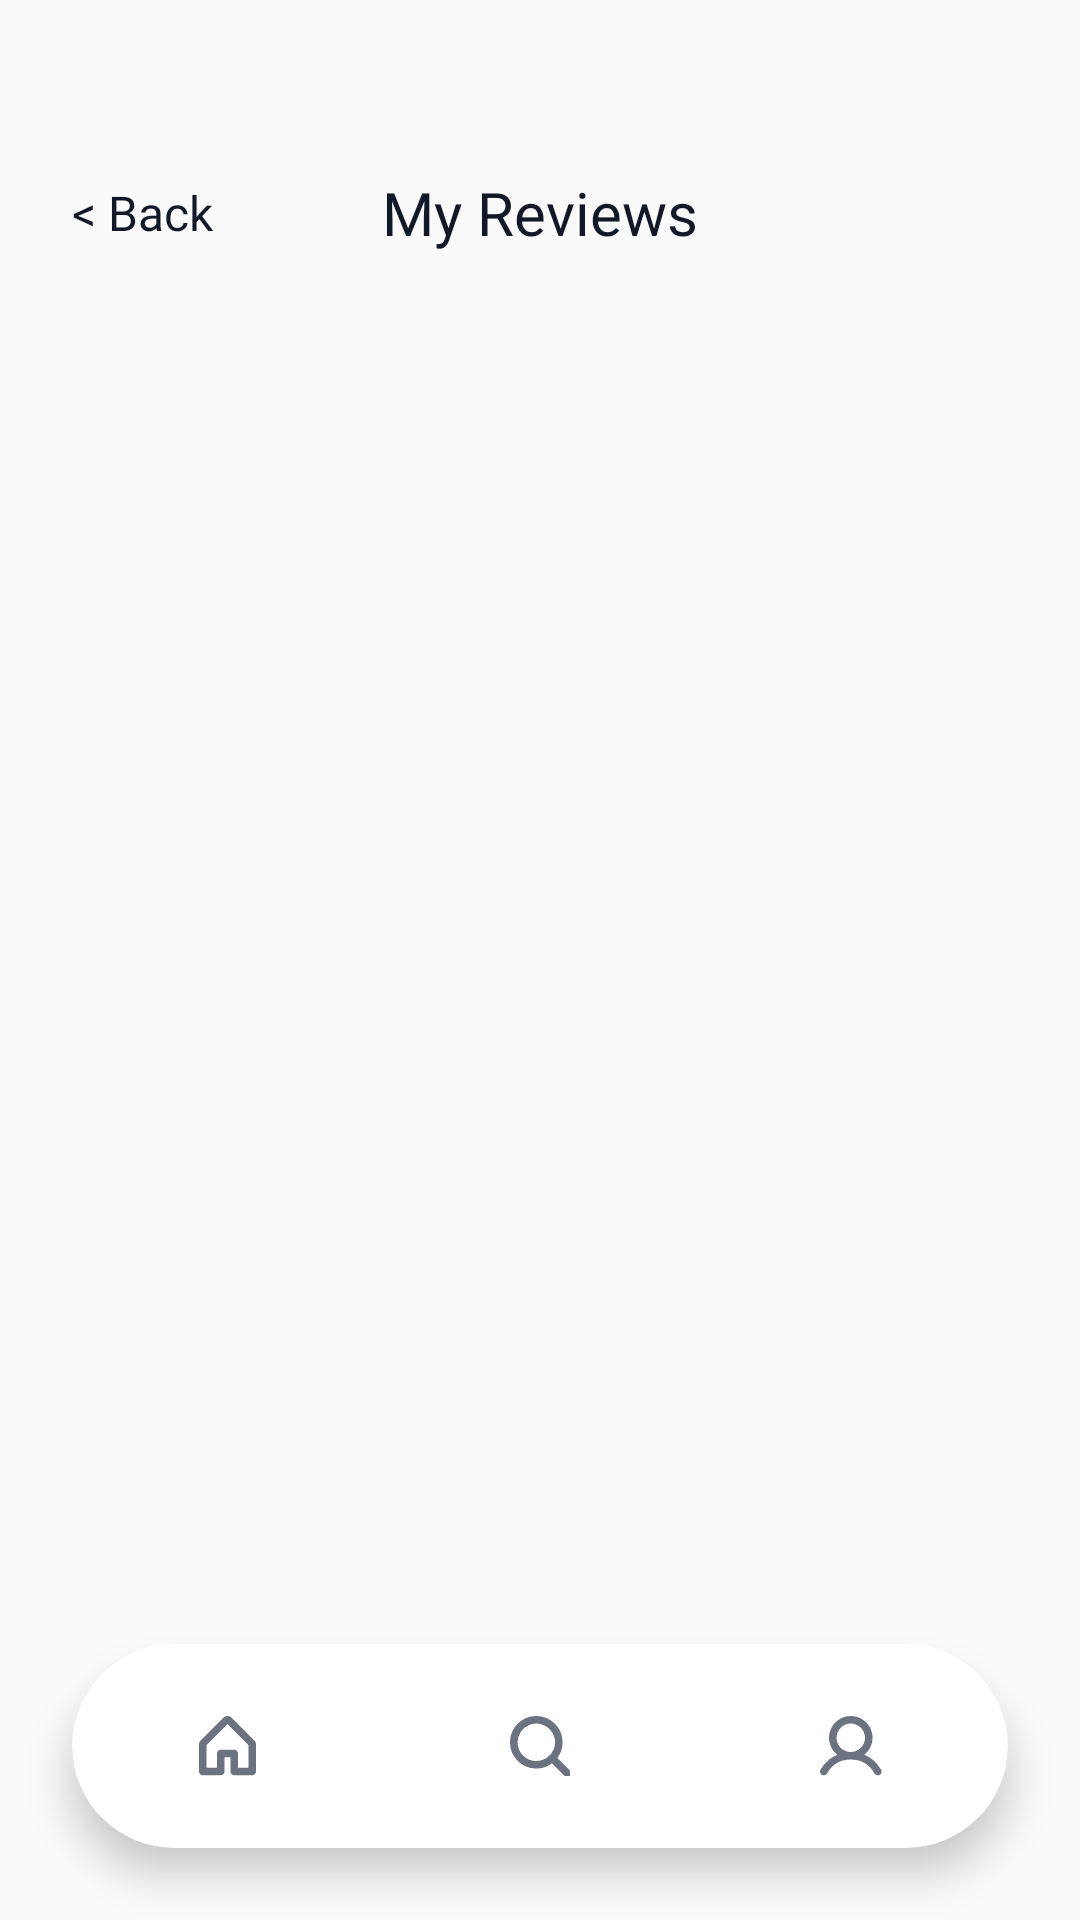

Locate icon controls on the screen. Image size 1080x1920, boxes as {"left": x1, "top": y1, "right": x2, "bottom": y2}.
home: {"left": 199, "top": 1716, "right": 256, "bottom": 1776}
profile: {"left": 820, "top": 1716, "right": 882, "bottom": 1776}
search: {"left": 510, "top": 1716, "right": 570, "bottom": 1776}
